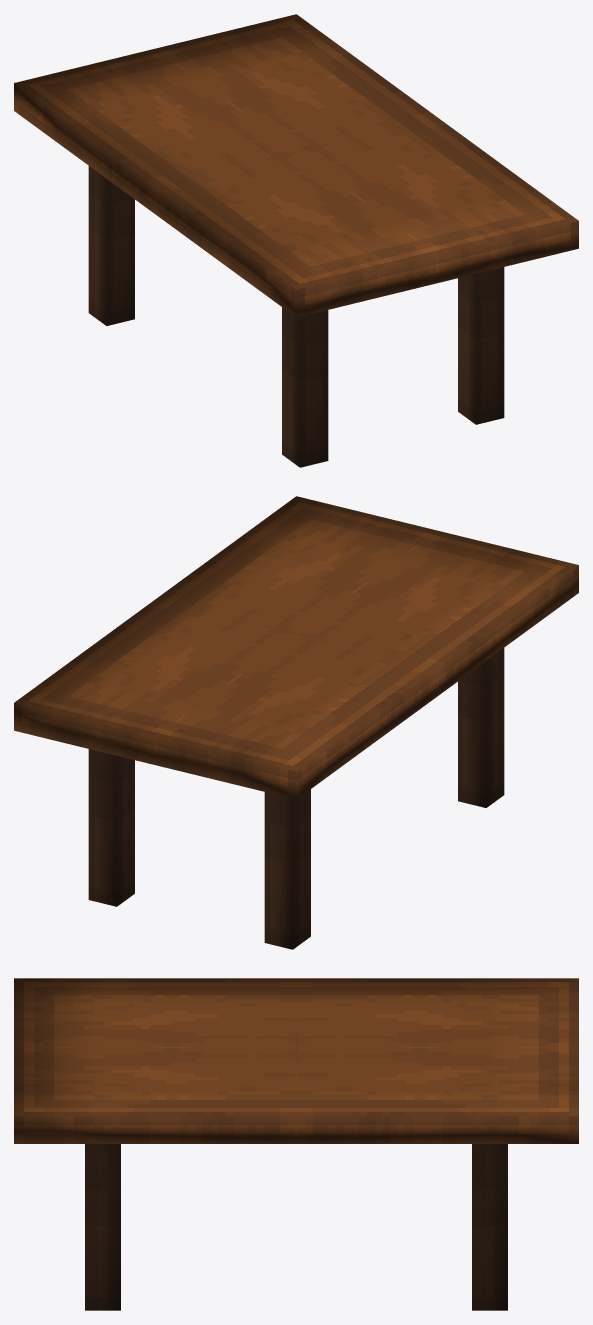
File: Table.fbx
3 views of the same model, one above another, from view 1: azimuth 30°, elevation 25°; view 2: azimuth 150°, elevation 25°; view 3: azimuth 270°, elevation 25° (orthographic).
Parts seen in each view (by area): view 1: Table; view 2: Table; view 3: Table.
Part boxes in pixels (x1,y1,x2,y2): Table: (14, 14, 578, 467); Table: (14, 496, 578, 949); Table: (14, 978, 578, 1310).
Bounding box in the file's own units: 149 × 107 × 258.
1 material, 1 textured.
